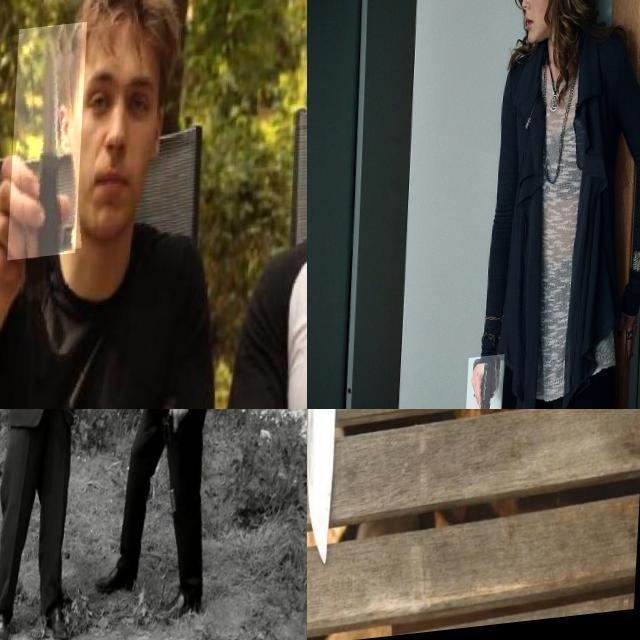-: (307, 409, 390, 634), (11, 25, 88, 262), (307, 409, 366, 640)
gun-knife-thesis - v11 Yolov5 augmented: (0, 409, 153, 471), (470, 360, 509, 409)
